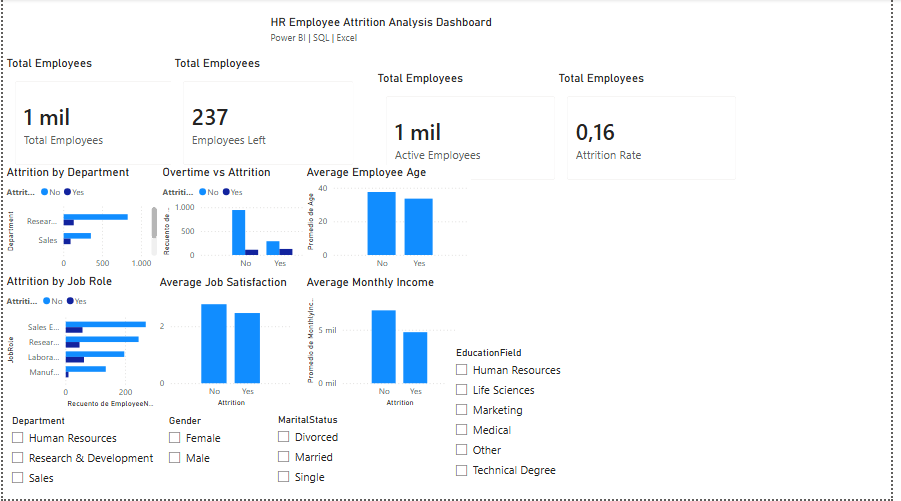

This screenshot's page, from the dashboard's own definition file:
{"tool":"powerbi","page":{"name":"Página 1","canvas":[1280,720],"ordinal":0},"visuals":[{"type":"cardVisual","title":"Total Employees","fields":{"Data":["WA_Fn-UseC_-HR-Employee-Attrition.Total Employees"]},"box":[0,82.3,278.8,174.7],"z":0},{"type":"cardVisual","title":"Total Employees","fields":{"Data":["WA_Fn-UseC_-HR-Employee-Attrition.Employees Left"]},"box":[241.9,82.3,280.5,174.7],"z":1000},{"type":"cardVisual","title":"Total Employees","fields":{"Data":["WA_Fn-UseC_-HR-Employee-Attrition.Active Employees"]},"box":[534.2,104.1,278.8,174.7],"z":2000},{"type":"cardVisual","title":"Total Employees","fields":{"Data":["WA_Fn-UseC_-HR-Employee-Attrition.Attrition Rate"]},"box":[794.5,104.1,278.8,174.7],"z":3000},{"type":"clusteredBarChart","title":"Attrition by Department","fields":{"Category":["WA_Fn-UseC_-HR-Employee-Attrition.Department"],"Series":["WA_Fn-UseC_-HR-Employee-Attrition.Attrition"],"Y":["CountNonNull(WA_Fn-UseC_-HR-Employee-Attrition.EmployeeNumber)"]},"box":[0,238.5,226.8,159.6],"z":4000},{"type":"clusteredBarChart","title":"Attrition by Job Role","fields":{"Series":["WA_Fn-UseC_-HR-Employee-Attrition.Attrition"],"Y":["CountNonNull(WA_Fn-UseC_-HR-Employee-Attrition.EmployeeNumber)"],"Category":["WA_Fn-UseC_-HR-Employee-Attrition.JobRole"]},"box":[0,396.4,241.9,196.5],"z":4001},{"type":"clusteredColumnChart","title":"Overtime vs Attrition","fields":{"Category":["WA_Fn-UseC_-HR-Employee-Attrition.OverTime"],"Y":["CountNonNull(WA_Fn-UseC_-HR-Employee-Attrition.EmployeeNumber)"],"Series":["WA_Fn-UseC_-HR-Employee-Attrition.Attrition"]},"box":[225.1,238.5,243.6,159.6],"z":4002},{"type":"clusteredColumnChart","title":"Average Job Satisfaction","fields":{"Category":["WA_Fn-UseC_-HR-Employee-Attrition.Attrition"],"Y":["Avg(WA_Fn-UseC_-HR-Employee-Attrition.JobSatisfaction)"]},"box":[220.1,398.1,199.9,194.9],"z":4003},{"type":"clusteredColumnChart","title":"Average Monthly Income","fields":{"Category":["WA_Fn-UseC_-HR-Employee-Attrition.Attrition"],"Y":["Avg(WA_Fn-UseC_-HR-Employee-Attrition.MonthlyIncome)"]},"box":[431.7,398.1,226.8,194.9],"z":4004},{"type":"clusteredColumnChart","title":"Average Employee Age","fields":{"Category":["WA_Fn-UseC_-HR-Employee-Attrition.Attrition"],"Y":["Avg(WA_Fn-UseC_-HR-Employee-Attrition.Age)"]},"box":[431.7,238.5,241.9,159.6],"z":4005},{"type":"slicer","fields":{"Values":["WA_Fn-UseC_-HR-Employee-Attrition.Department"]},"box":[0,593,243.6,127.7],"z":4006},{"type":"slicer","fields":{"Values":["WA_Fn-UseC_-HR-Employee-Attrition.Gender"]},"box":[226.8,593,221.7,127.7],"z":4007},{"type":"slicer","fields":{"Values":["WA_Fn-UseC_-HR-Employee-Attrition.EducationField"]},"box":[640,495.5,243.6,225.1],"z":4008},{"type":"slicer","fields":{"Values":["WA_Fn-UseC_-HR-Employee-Attrition.MaritalStatus"]},"box":[383,591.3,233.5,129.3],"z":4009},{"type":"textbox","title":"HR Employee Attrition Analysis Dashboard","box":[379.6,23.5,364.5,80.6],"z":4010}]}

Visuals, with their boxes in screenshot pixels (x1, y1, x2, y2), scaled from the page's 1280x720 canvas onto the 901x501 screenshot:
"Total Employees" cardVisual: x1=0, y1=57, x2=196, y2=179
"Total Employees" cardVisual: x1=170, y1=57, x2=368, y2=179
"Total Employees" cardVisual: x1=376, y1=72, x2=572, y2=194
"Total Employees" cardVisual: x1=559, y1=72, x2=756, y2=194
"Attrition by Department" clusteredBarChart: x1=0, y1=166, x2=160, y2=277
"Attrition by Job Role" clusteredBarChart: x1=0, y1=276, x2=170, y2=413
"Overtime vs Attrition" clusteredColumnChart: x1=158, y1=166, x2=330, y2=277
"Average Job Satisfaction" clusteredColumnChart: x1=155, y1=277, x2=296, y2=413
"Average Monthly Income" clusteredColumnChart: x1=304, y1=277, x2=464, y2=413
"Average Employee Age" clusteredColumnChart: x1=304, y1=166, x2=474, y2=277
slicer - WA_Fn-UseC_-HR-Employee-Attrition.Department: x1=0, y1=413, x2=171, y2=500
slicer - WA_Fn-UseC_-HR-Employee-Attrition.Gender: x1=160, y1=413, x2=316, y2=500
slicer - WA_Fn-UseC_-HR-Employee-Attrition.EducationField: x1=450, y1=345, x2=622, y2=500
slicer - WA_Fn-UseC_-HR-Employee-Attrition.MaritalStatus: x1=270, y1=411, x2=434, y2=500
"HR Employee Attrition Analysis Dashboard" textbox: x1=267, y1=16, x2=524, y2=72
